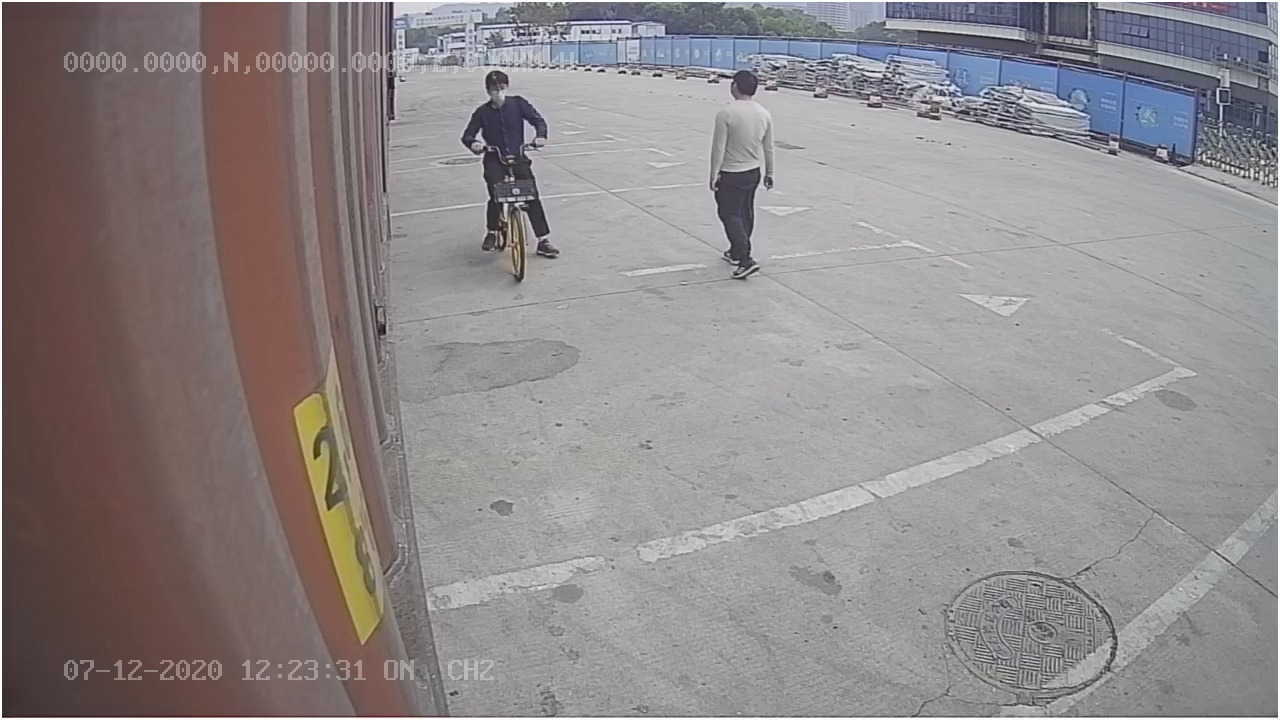person: (703, 64, 783, 284)
